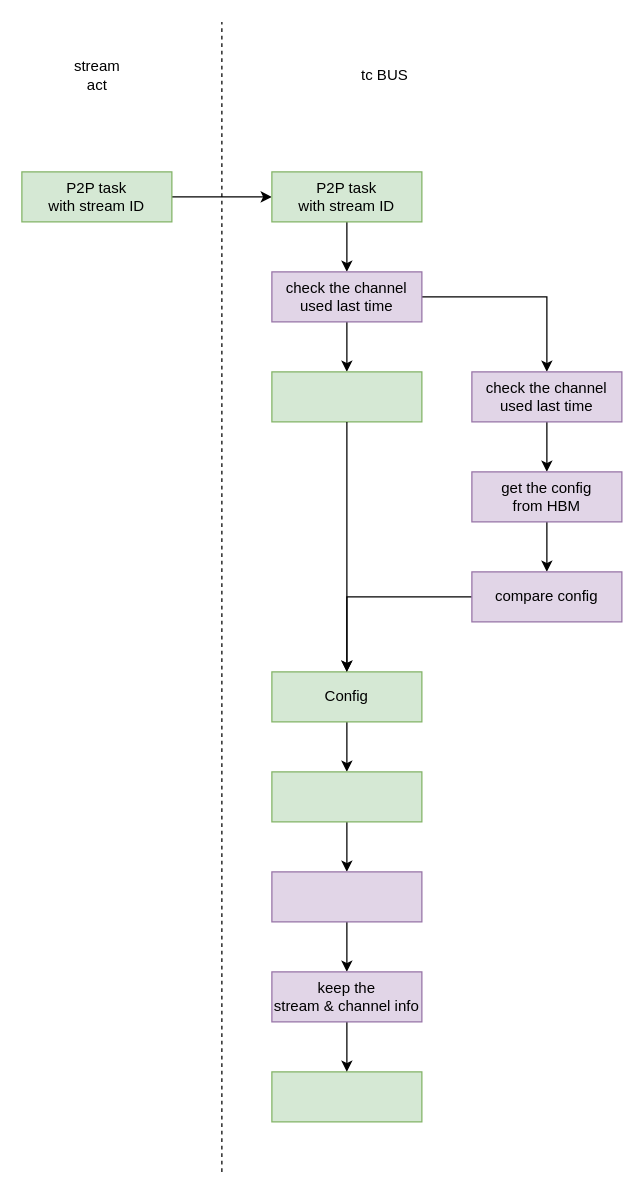
This 644x1195 diagram has some shape labels left out. Here are the shapes that lost their labels. From the top down, the centre of each, then its label:
At (346,396): "Find available Channel".
At (346,796): "door bell".
At (346,896): "Keep the config information".
At (346,1096): "check flag".
